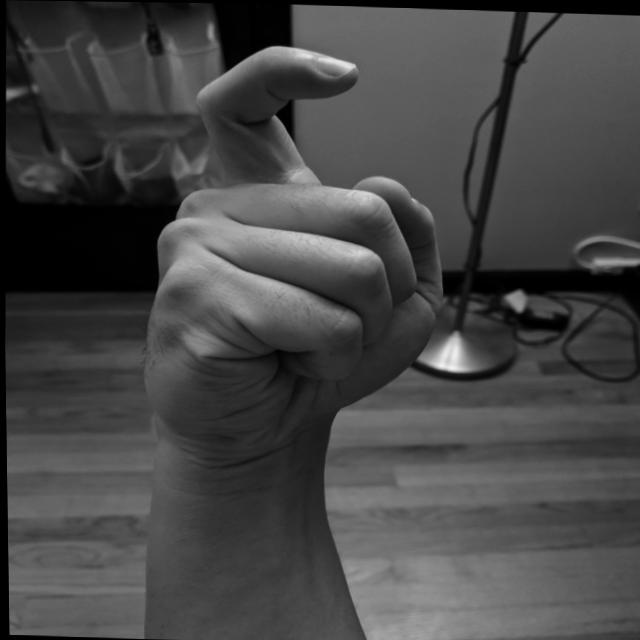X: (128, 34, 456, 453)
